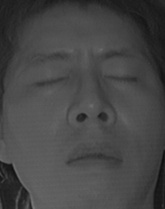blink: (101, 65, 141, 90), (29, 71, 70, 91)
mouth: (58, 137, 127, 177)
